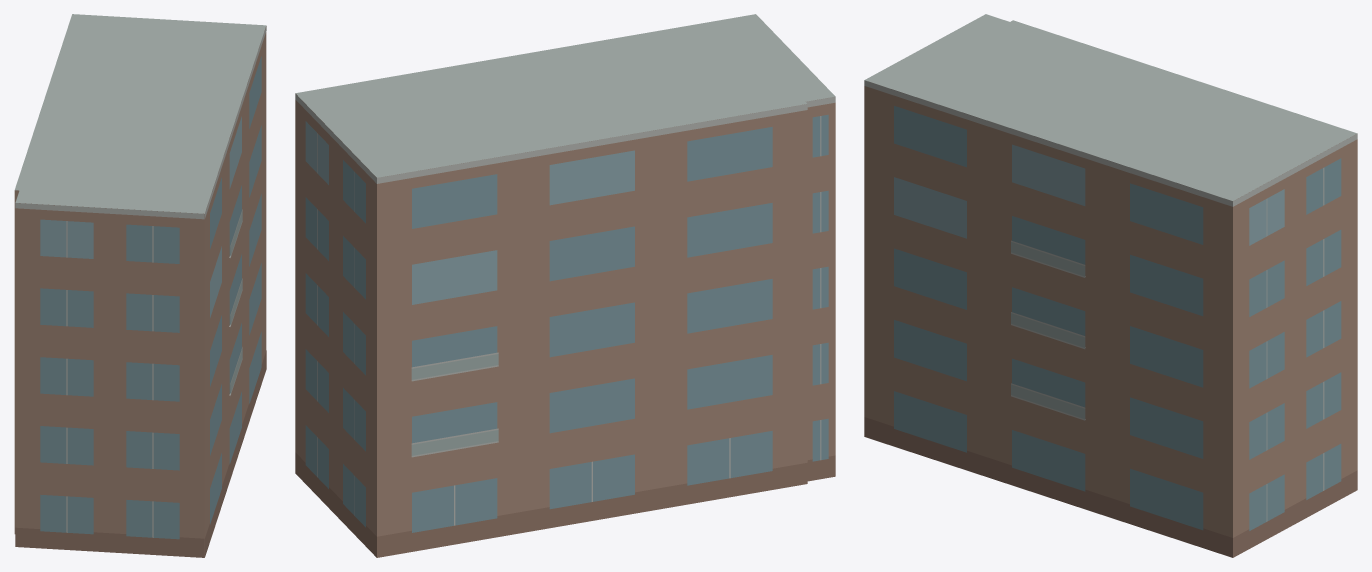
File: survey-upis-32635930.glb
3 views of the same model, side by side, from view 1: azimuth 30°, elevation 25°; view 2: azimuth 150°, elevation 25°; view 3: azimuth 270°, elevation 25° (orthographic). The views are drawn at different scales.
Parts seen in each view (by area): view 1: survey-upis-32635930.tmp; view 2: survey-upis-32635930.tmp; view 3: survey-upis-32635930.tmp.
Boxes of the visible parts, x1,y1,x2,y2 form: survey-upis-32635930.tmp: (14, 14, 266, 557); survey-upis-32635930.tmp: (295, 14, 835, 557); survey-upis-32635930.tmp: (864, 14, 1357, 557).
Size of the model in its own units: 17.23 by 15.3 by 19.18.
